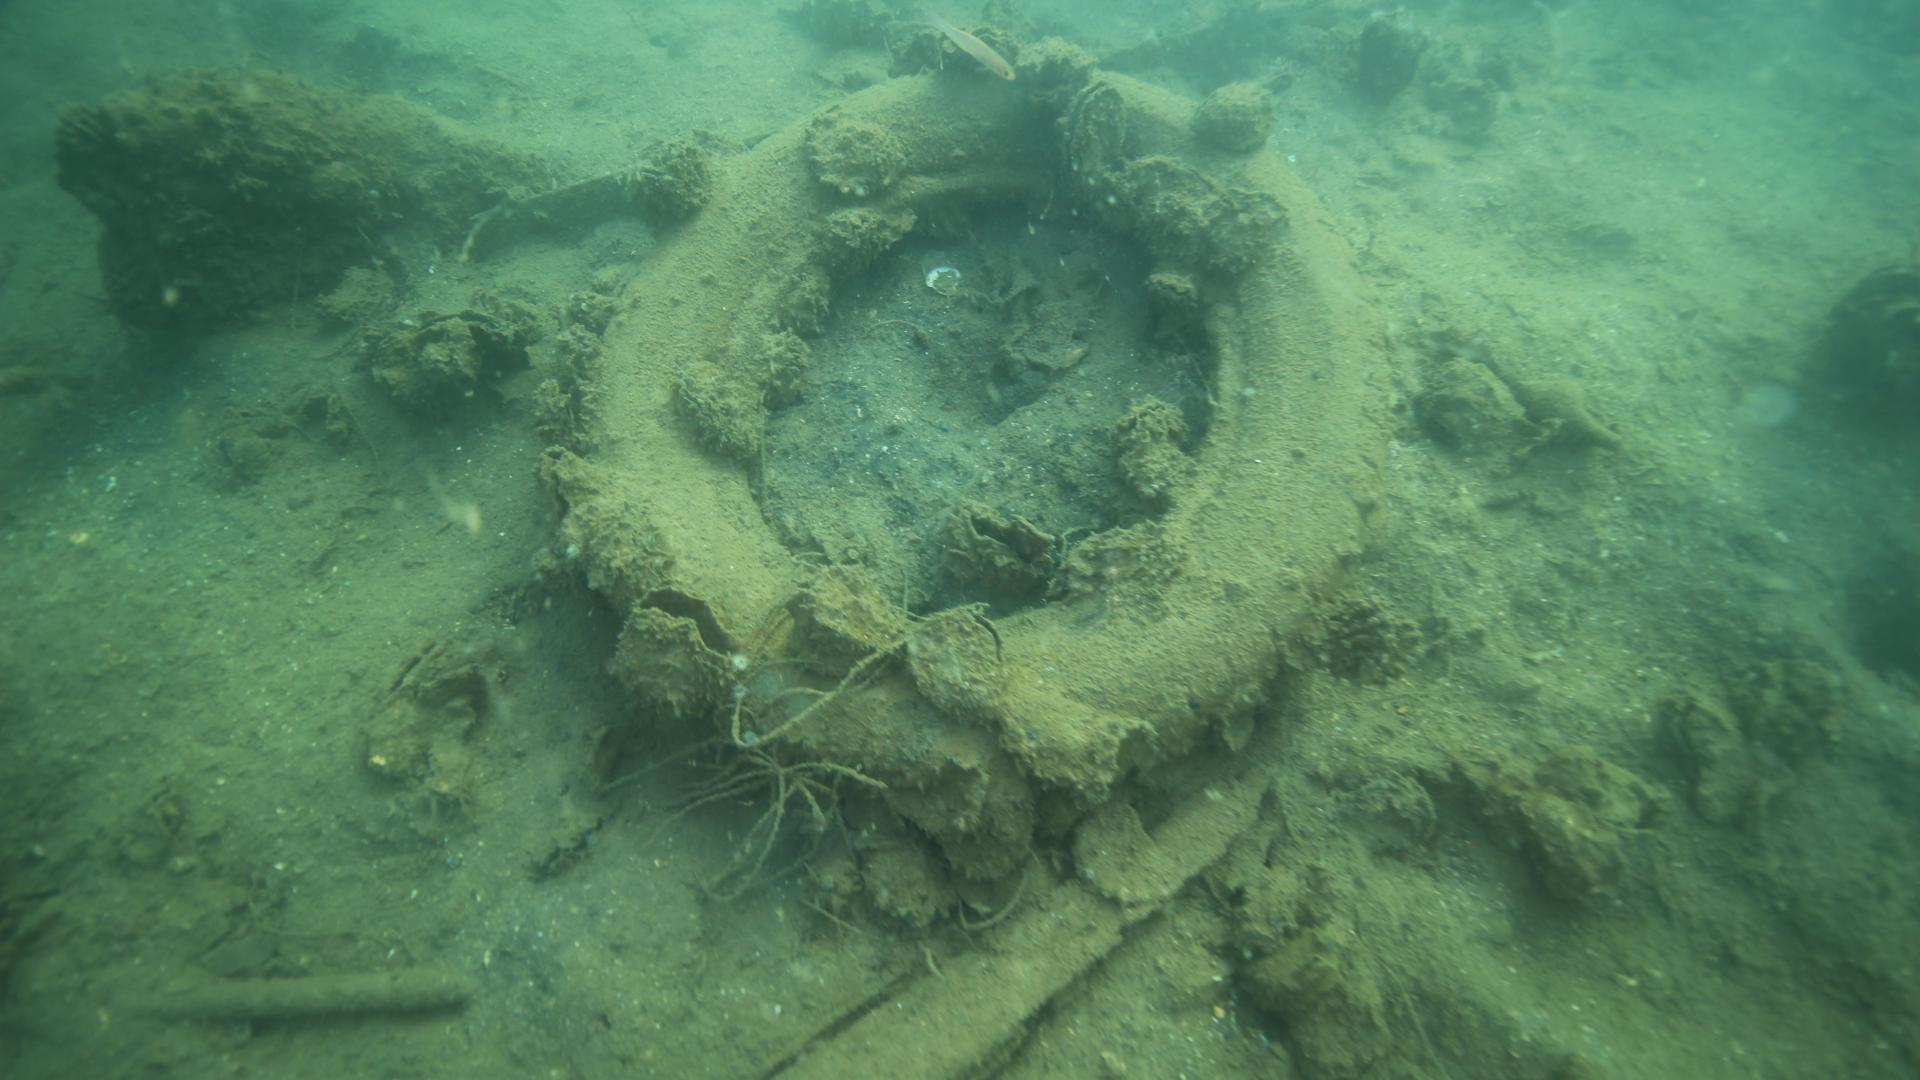tire: (579, 37, 1399, 839)
